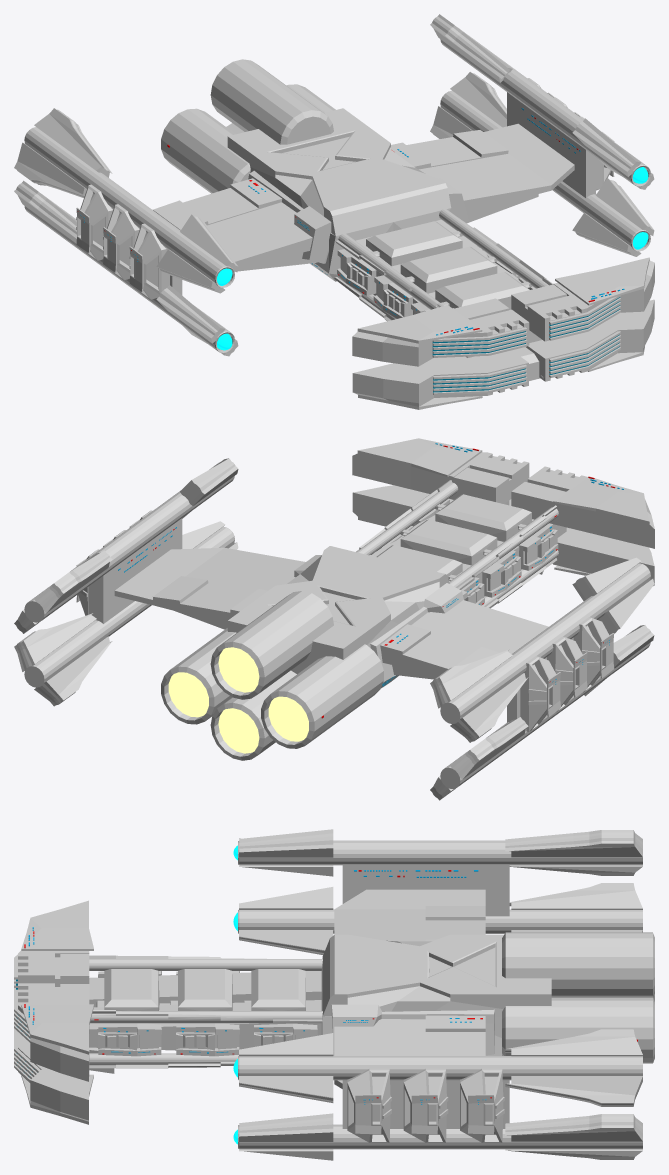
File: battlecruiserOHYEAH.FBX
The picture shows the model from 3 angles, top to bottom: view 1: azimuth 30°, elevation 25°; view 2: azimuth 150°, elevation 25°; view 3: azimuth 270°, elevation 25°; orthographic projection. The views are drawn at different scales.
Parts seen in each view (by area): view 1: Box01, Cylinder03, Cylinder12, Cylinder16, Cylinder11, Cylinder14, Cylinder04, Box797, Box02, Box798, Box27, Box26 (+6 smaller); view 2: Box01, Cylinder03, Cylinder12, Cylinder11, Cylinder16, Cylinder14, Cylinder04, Box798, Box797, Cylinder13, Box25, Cylinder15 (+13 smaller); view 3: Box01, Cylinder11, Cylinder03, Cylinder12, Cylinder04, Cylinder16, Cylinder13, Cylinder09, Box578, Cylinder01, Box579, Box577 (+8 smaller).
Boxes of the visible parts, x1,y1,x2,y2 form: Box01: (153,92,654,409); Cylinder03: (14,108,238,293); Cylinder12: (430,72,654,256); Cylinder16: (210,59,333,144); Cylinder11: (430,14,654,189); Cylinder14: (161,108,250,193); Cylinder04: (14,180,238,356); Box797: (400,246,497,293); Box02: (366,221,462,266); Box798: (435,272,532,309); Box27: (129,223,169,299); Box26: (103,204,139,280); Box01: (93,438,654,722); Cylinder03: (430,557,654,742); Cylinder12: (14,521,238,706); Cylinder11: (14,458,238,633); Cylinder16: (210,591,333,699); Cylinder14: (261,644,383,748); Cylinder04: (430,625,654,800); Box798: (435,494,531,541); Box797: (400,519,497,565); Cylinder13: (161,628,236,724); Box25: (520,656,560,731); Cylinder15: (210,670,296,760); Box01: (18,864,551,1128); Cylinder11: (238,1029,642,1106); Cylinder03: (238,829,642,876); Cylinder12: (238,1113,642,1160); Cylinder04: (238,883,642,954); Cylinder16: (502,932,654,997); Cylinder13: (502,997,654,1063); Cylinder09: (90,1010,322,1023); Box578: (403,1068,448,1142); Cylinder01: (89,955,322,970); Box579: (347,1068,391,1142); Box577: (460,1068,504,1142).
Bounding box in the file's own units: 572 × 143 × 633.
